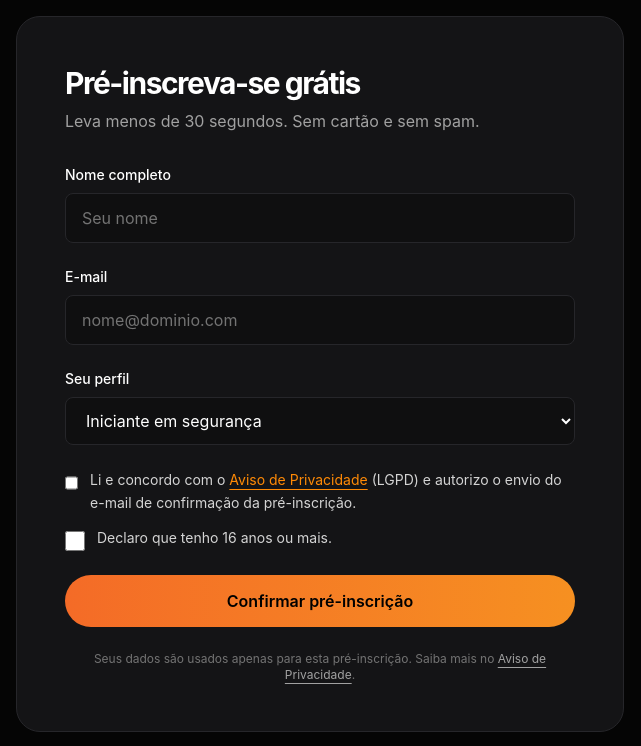
Test: PreEnrollmentForm › modo habilitado › 202 → estado de sucesso + beacon preinscricao_submitida (sem PII no payload)
In the field labelled "Nome completo": (320, 218) [65,193,575,243], type "Maria Silva"
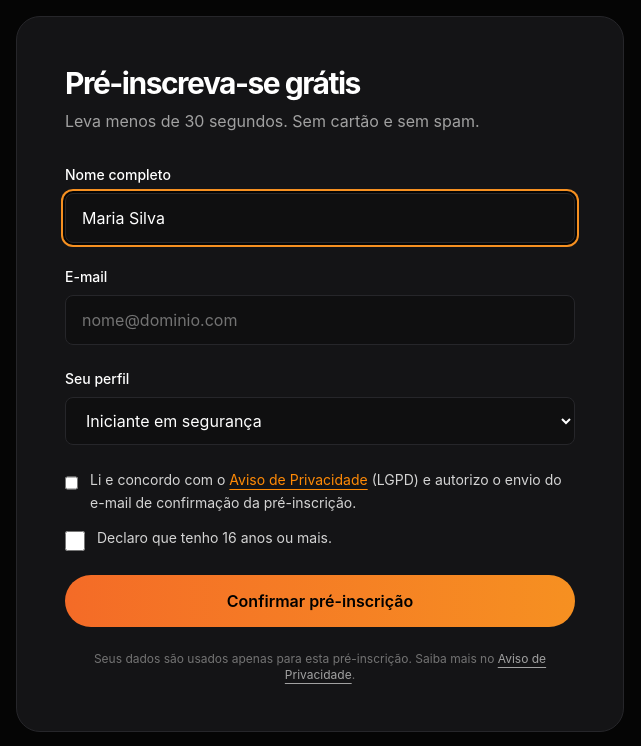
In the field labelled "E-mail": (320, 320) [65,295,575,345], type "maria@exemplo.com"
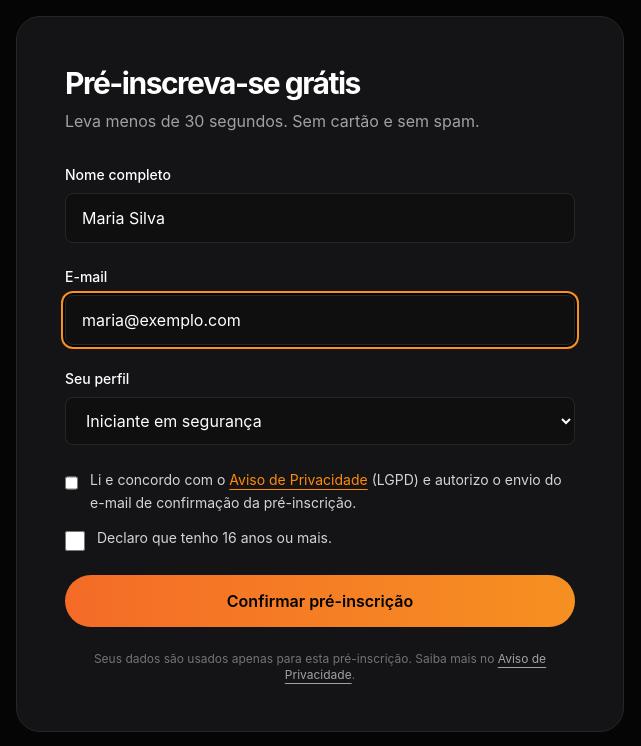
Select "Iniciante em segurança" in the dropdown labelled "Seu perfil": (320, 421) [65,397,575,445]
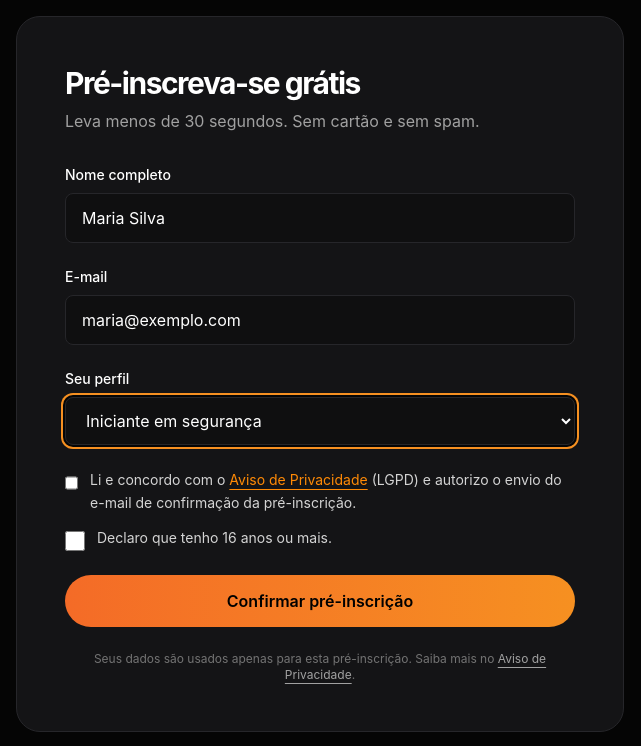
Click the checkbox labelled "Li e concordo": (72, 483) [65,473,78,493]
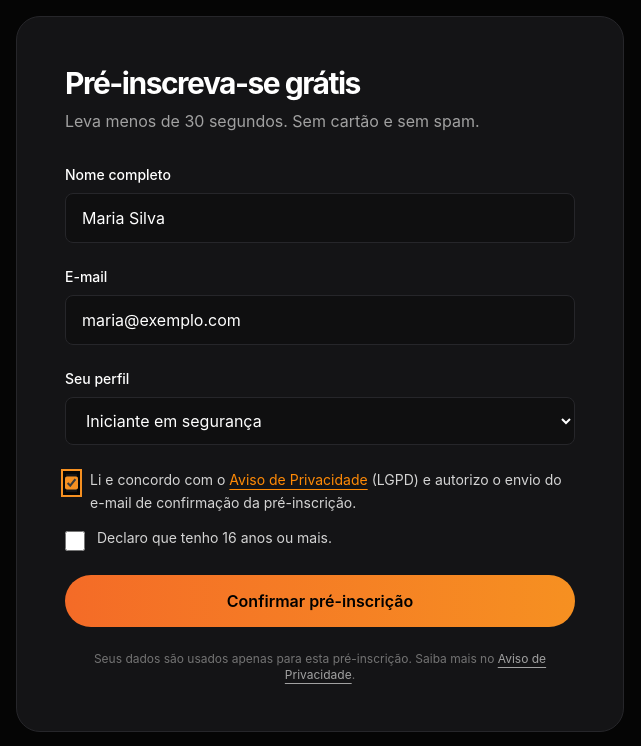
Click the checkbox labelled "Declaro que tenho 16 anos ou mais.": (75, 540) [65,530,85,550]
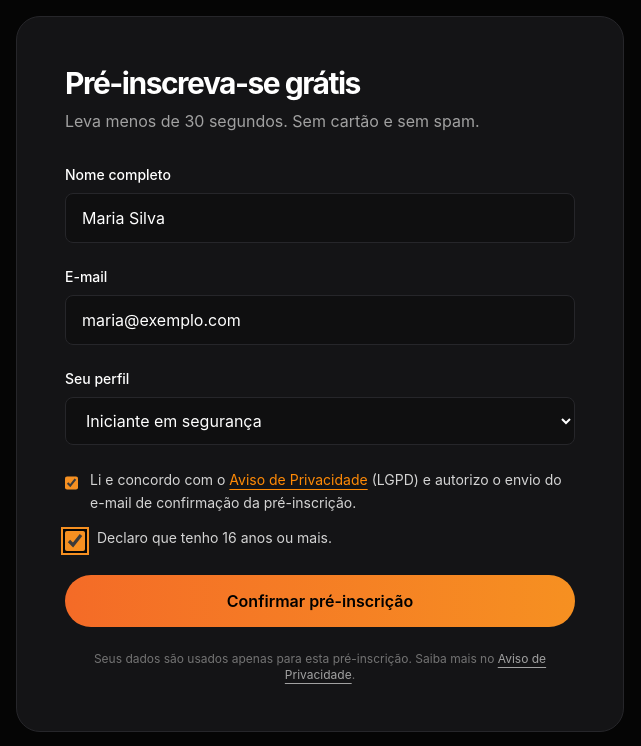
Click the button "Confirmar pré-inscrição": (320, 600) [65,574,575,626]
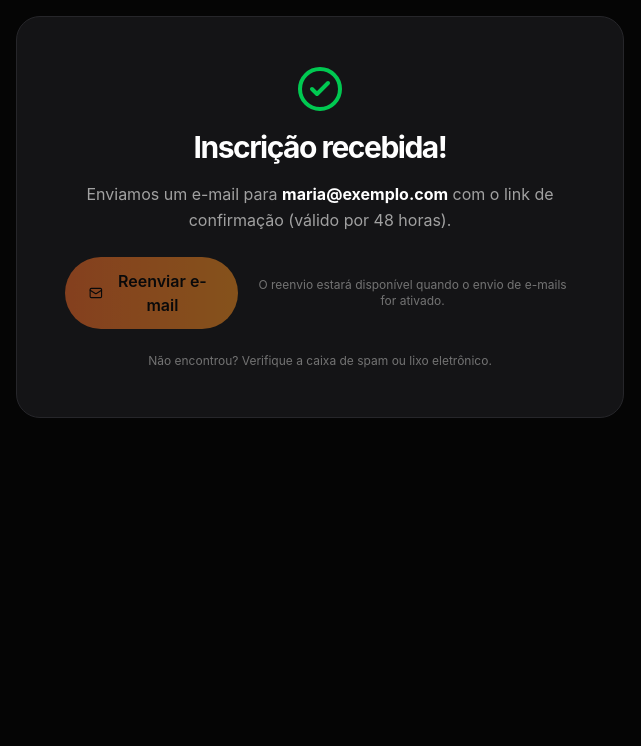
Expected: the heading "Inscrição recebida!" is shown, [194,129,446,165]
